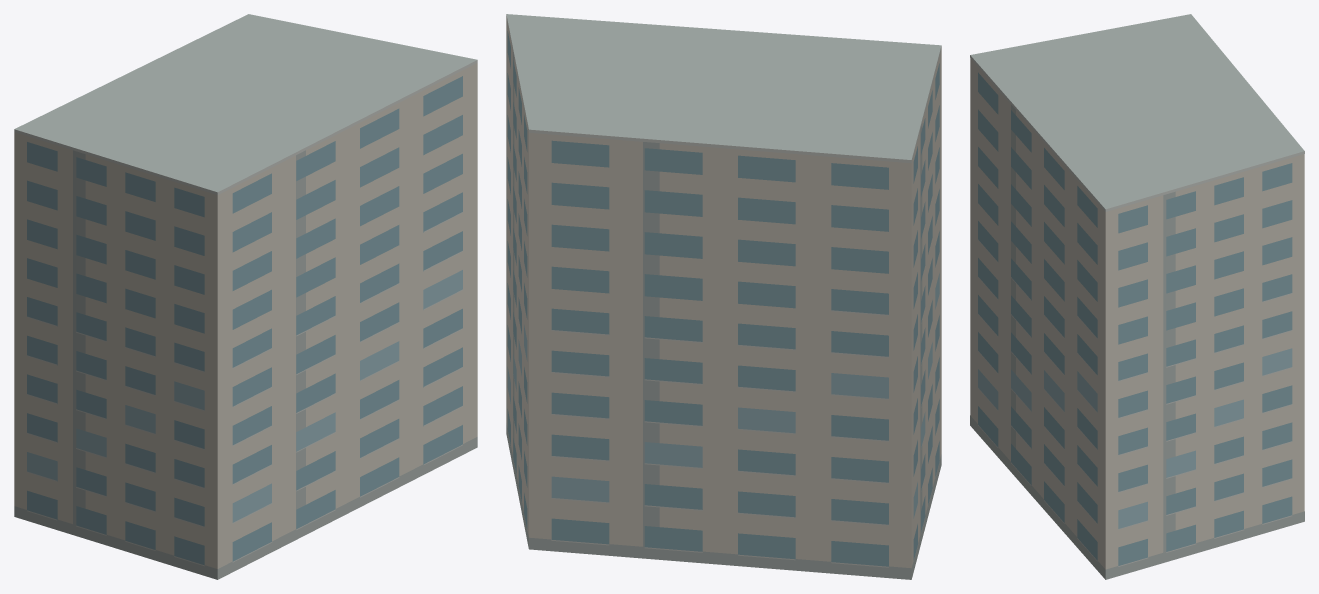
Rendered from residential-078359e2-ef36-4e7b-9a93-15c15f6b32da.glb.
3 renders of one model, left to right at view 1: azimuth 30°, elevation 25°; view 2: azimuth 150°, elevation 25°; view 3: azimuth 270°, elevation 25°, orthographic. The views are drawn at different scales.
Parts seen in each view (by area): view 1: residential-078359e2-ef36-4e7b-9a93-15c15f6b32da.tmp; view 2: residential-078359e2-ef36-4e7b-9a93-15c15f6b32da.tmp; view 3: residential-078359e2-ef36-4e7b-9a93-15c15f6b32da.tmp.
Boxes of the visible parts, <box> form: residential-078359e2-ef36-4e7b-9a93-15c15f6b32da.tmp: <box>14,14,477,579</box>; residential-078359e2-ef36-4e7b-9a93-15c15f6b32da.tmp: <box>506,14,941,579</box>; residential-078359e2-ef36-4e7b-9a93-15c15f6b32da.tmp: <box>970,14,1304,579</box>.
Size of the model in its own units: 37.33 by 33 by 27.02.
